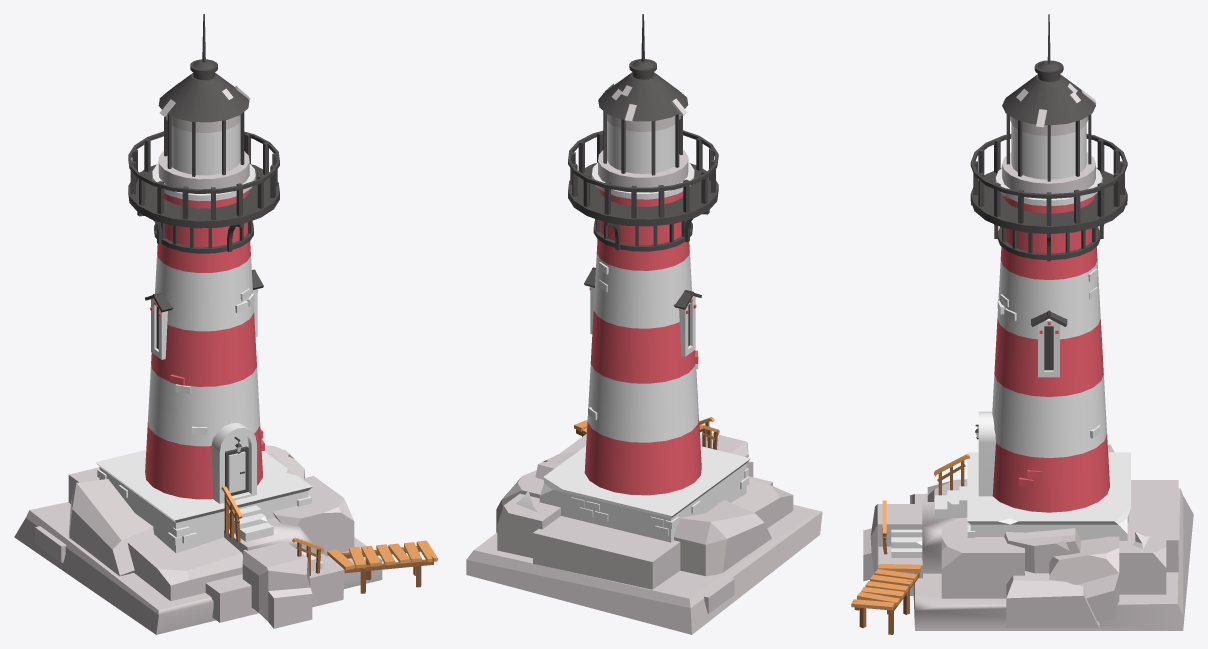
The model's file is builtEnv-lighthouse-01.glb.
3 views of the same model, side by side, from view 1: azimuth 30°, elevation 25°; view 2: azimuth 150°, elevation 25°; view 3: azimuth 270°, elevation 25° (orthographic). The views are drawn at different scales.
Parts seen in each view (by area): view 1: node-0; view 2: node-0; view 3: node-0.
Boxes of the visible parts, left/top/right/bottom form: node-0: left=14, top=14, right=437, bottom=634; node-0: left=466, top=14, right=822, bottom=634; node-0: left=851, top=14, right=1193, bottom=634.
Bounding box in the file's own units: 10.05 × 19.7 × 10.92.
1 material, 1 textured.
